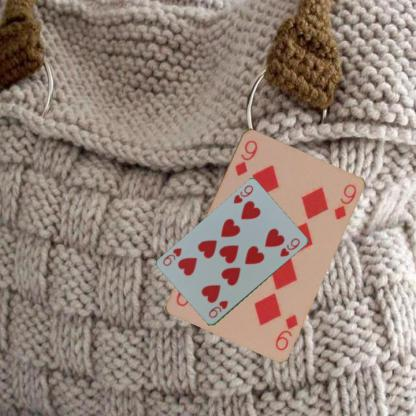9d: (272, 308, 299, 352), (232, 137, 259, 178)
9h: (206, 298, 229, 320), (231, 183, 254, 205)
